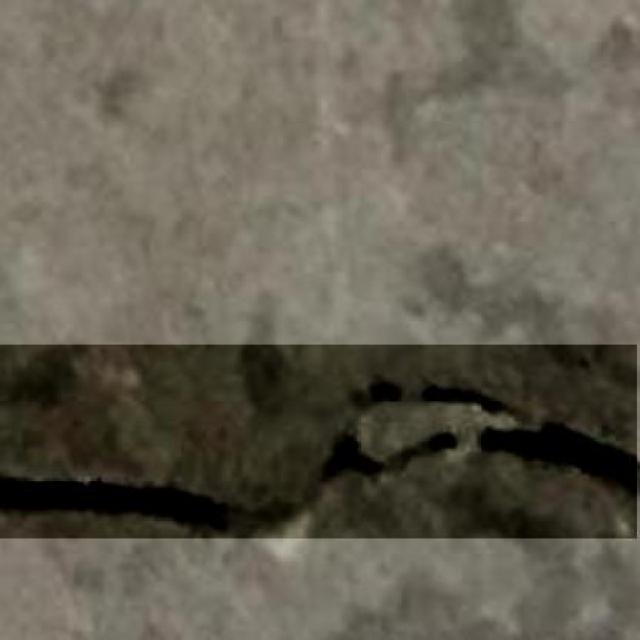Crack: (1, 352, 640, 549)
